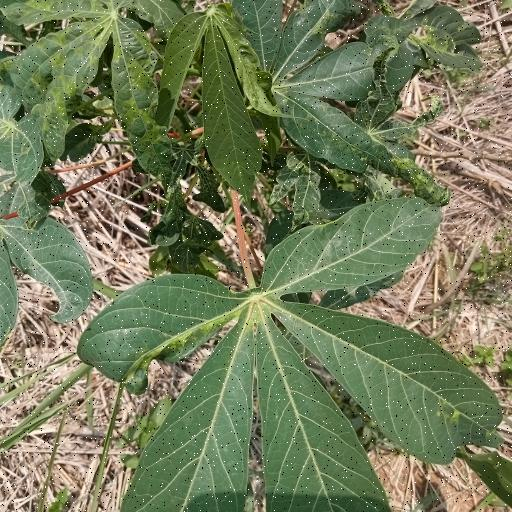Cassava_Mosaic: (74, 202, 492, 512)
